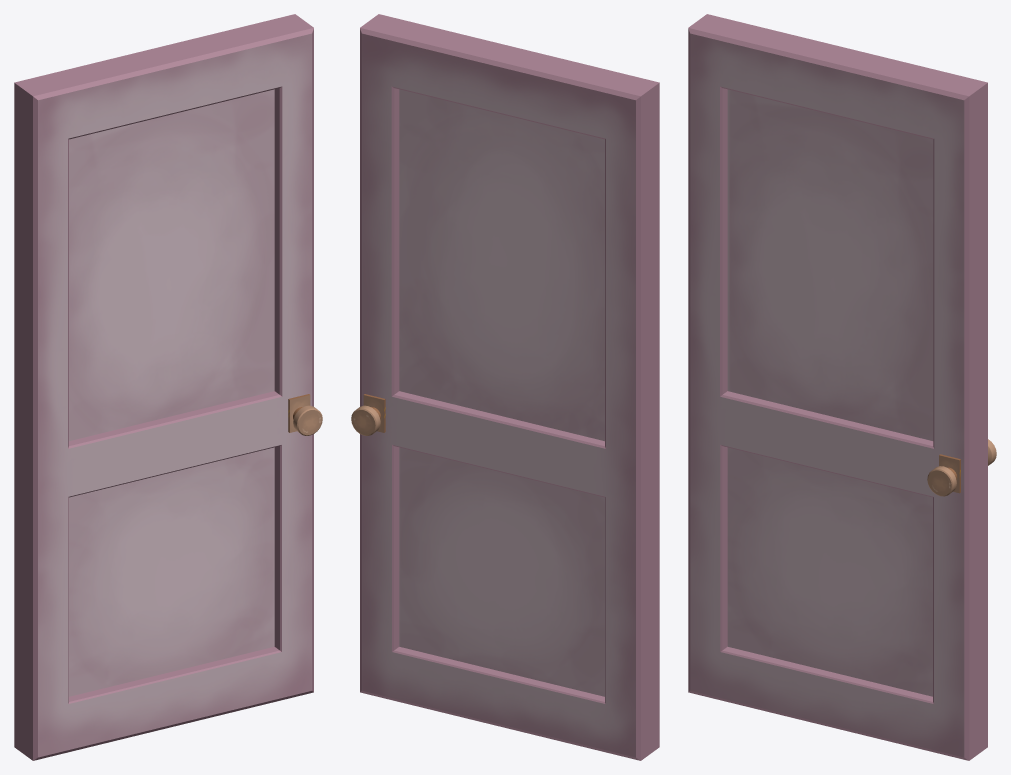
Rendered from Door_model.fbx.
3 views of the same model, side by side, from view 1: azimuth 30°, elevation 25°; view 2: azimuth 150°, elevation 25°; view 3: azimuth 330°, elevation 25° (orthographic).
Parts seen in each view (by area): view 1: DOOR2; view 2: DOOR2; view 3: DOOR2.
Part boxes in pixels (x1,y1,x2,y2): DOOR2: (14, 14, 322, 760); DOOR2: (351, 14, 659, 760); DOOR2: (688, 14, 996, 760).
Size of the model in its own units: 139 by 314 by 38.19.
